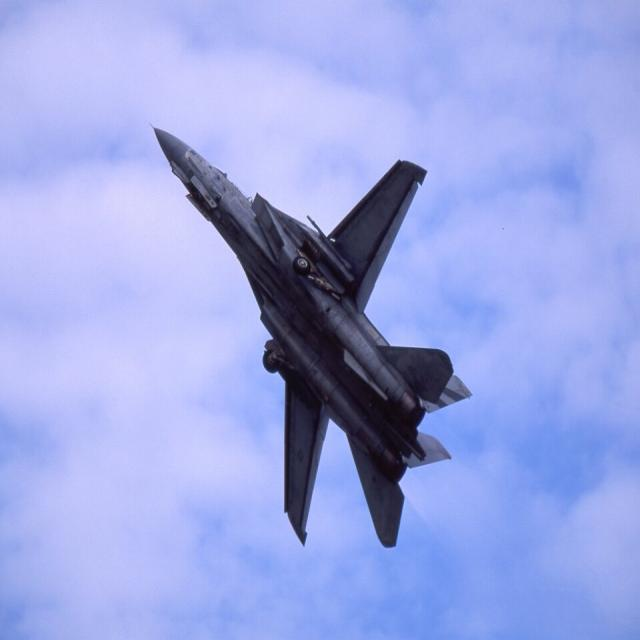MIL_Plane: (149, 122, 473, 548)
